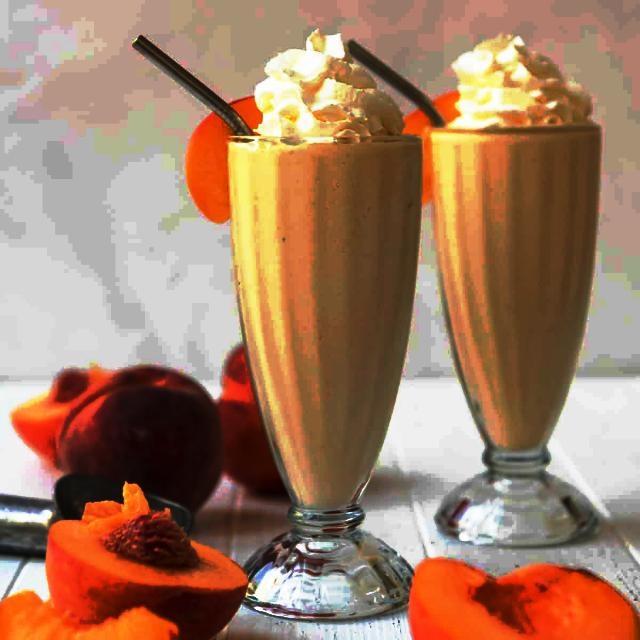drink: (433, 35, 612, 542), (226, 137, 428, 530)
